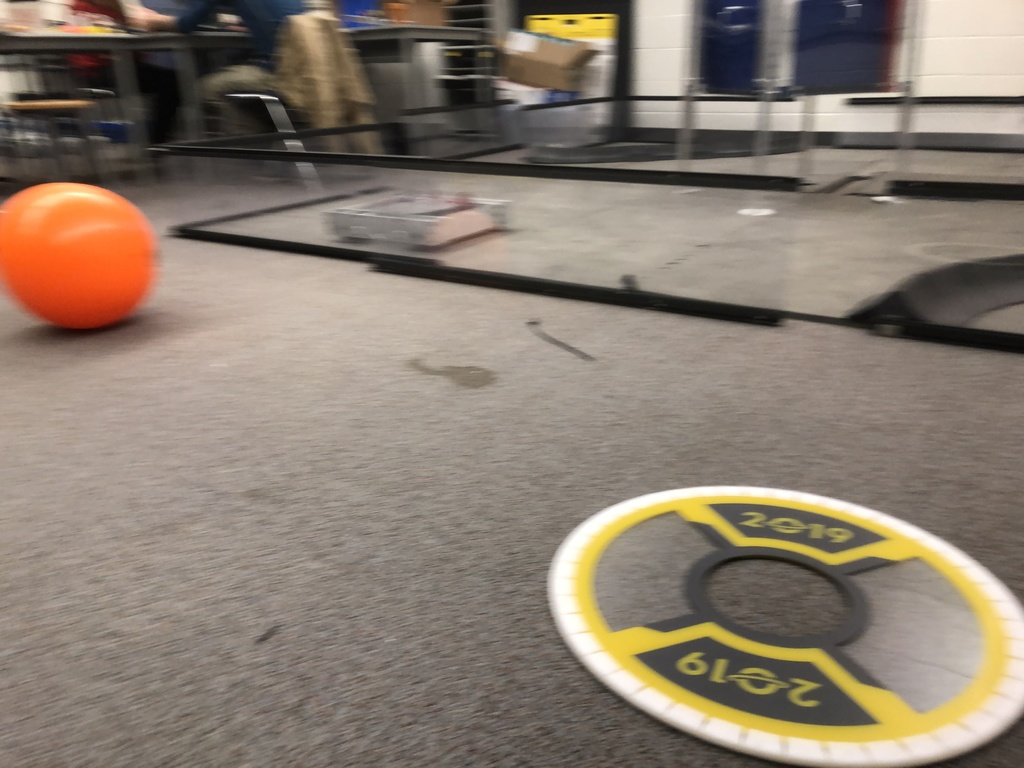hatch_panel: (544, 471, 1024, 768)
